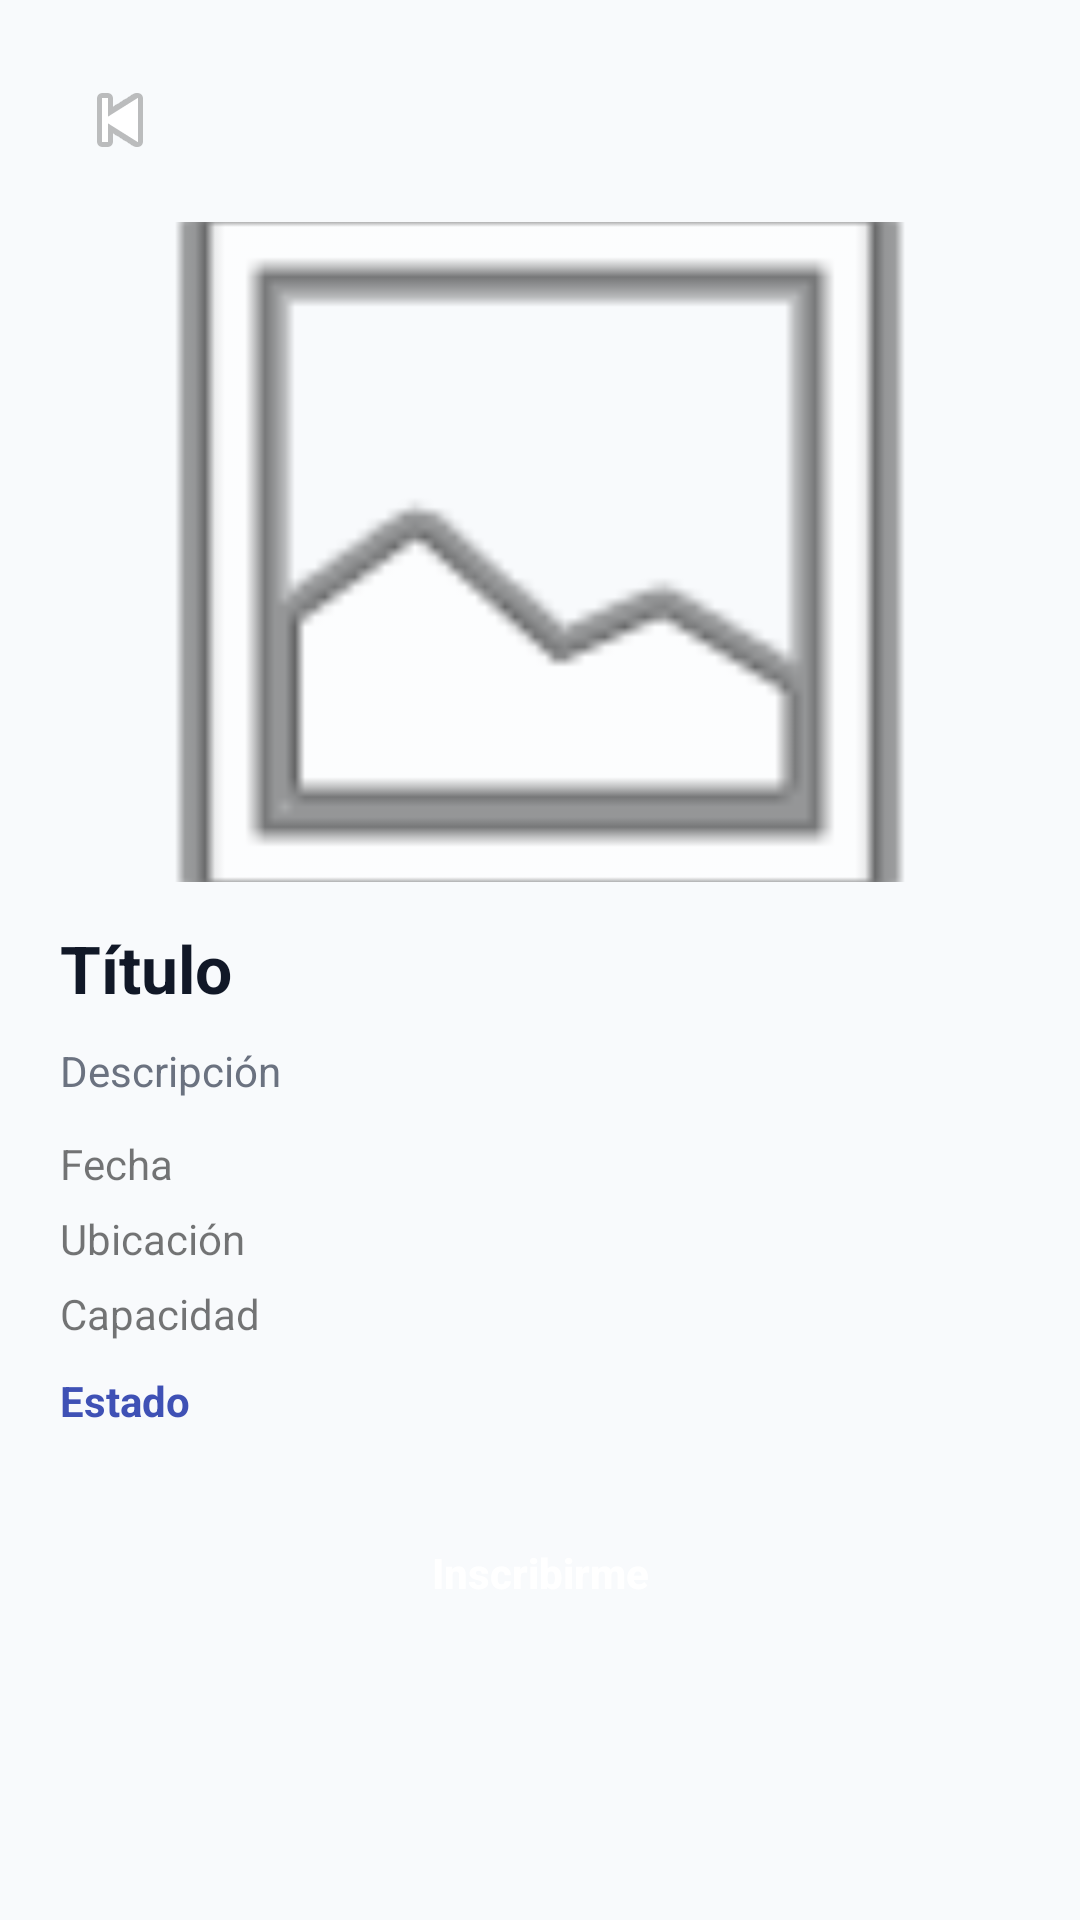

Icons on this 1080×1920 Android screen, each with the point to tap as (x=x, y=y):
previous: (x=120, y=120)
